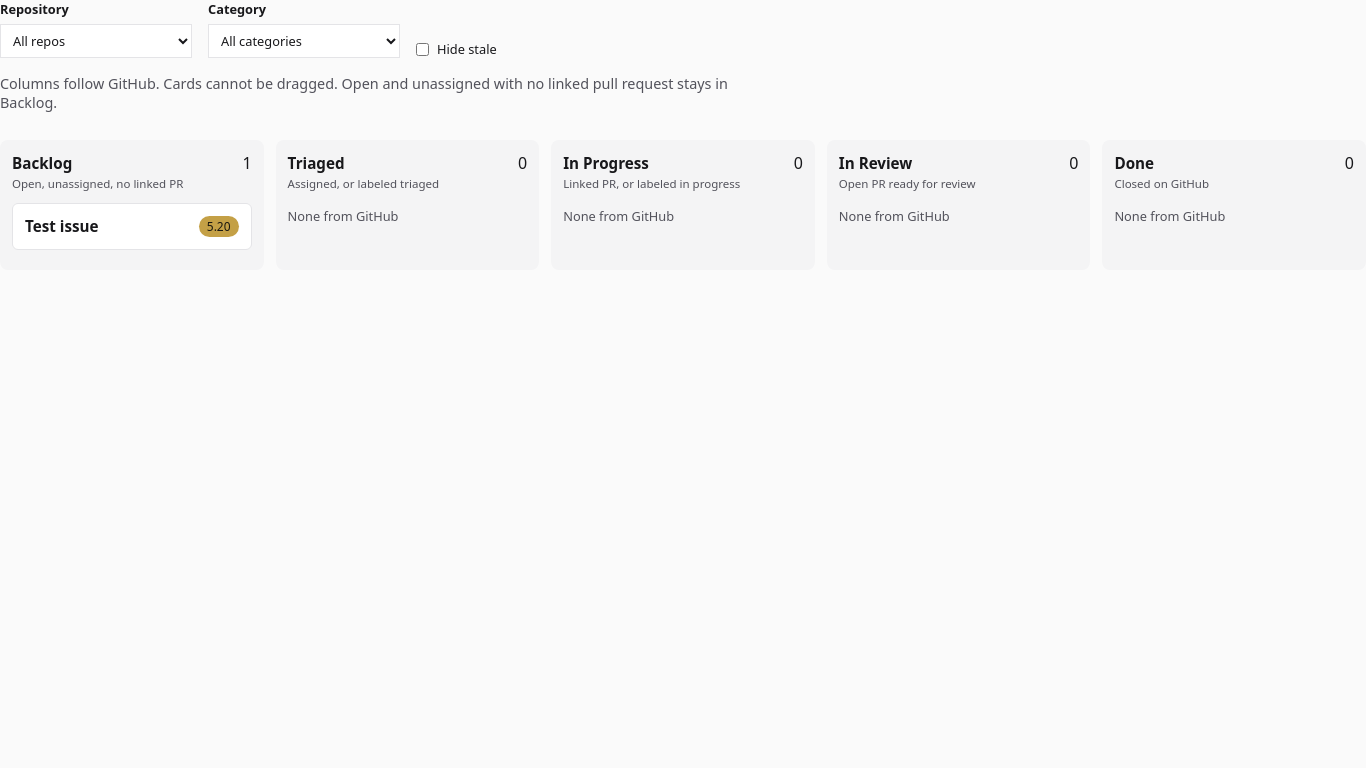
Scenario: shows a work index that opens reasoning in a popup
Expected: the heading "Test issue" is shown, [25,216,98,236]
Click the button named "Work index 5.20": (219, 227) [199,216,239,237]
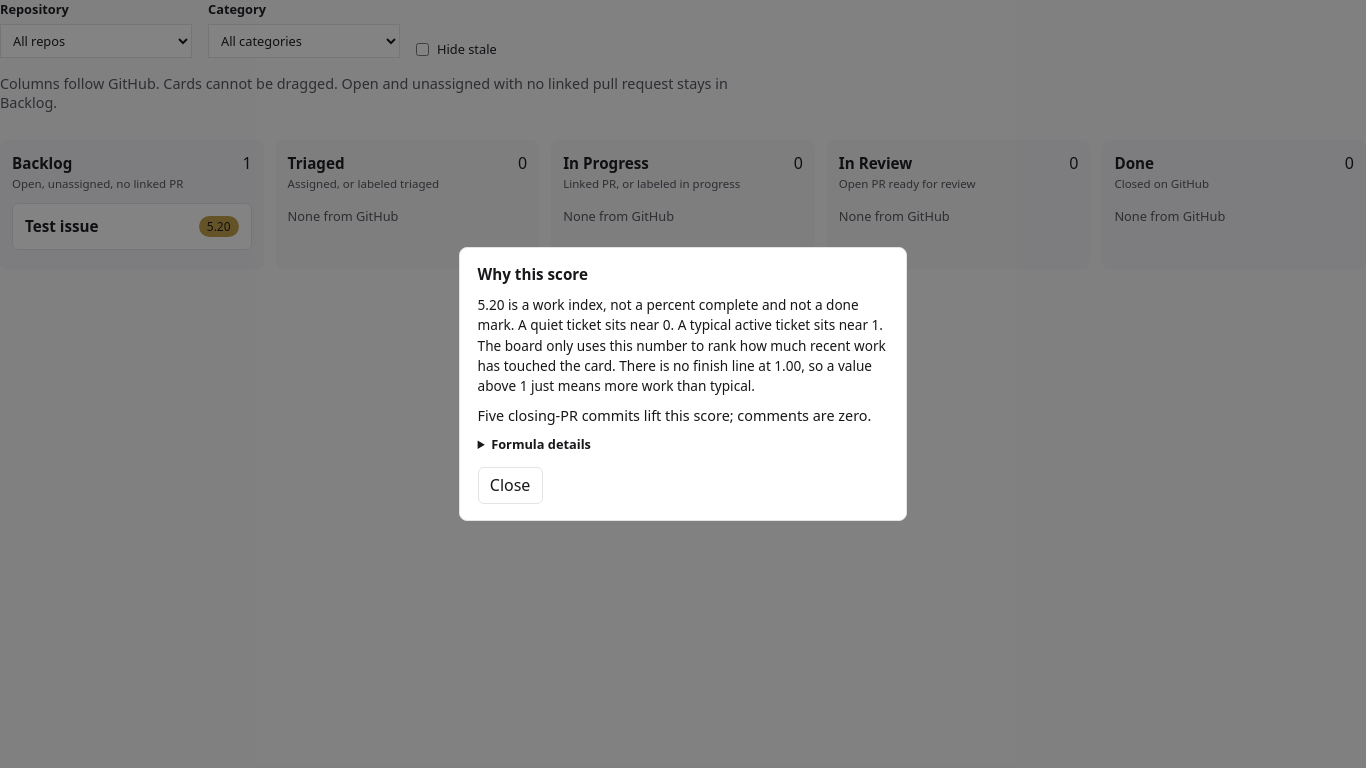
Expected: the dialog "Why this score" shows "Five closing-PR commits lift this score; comments are zero.", [478,406,871,424]
